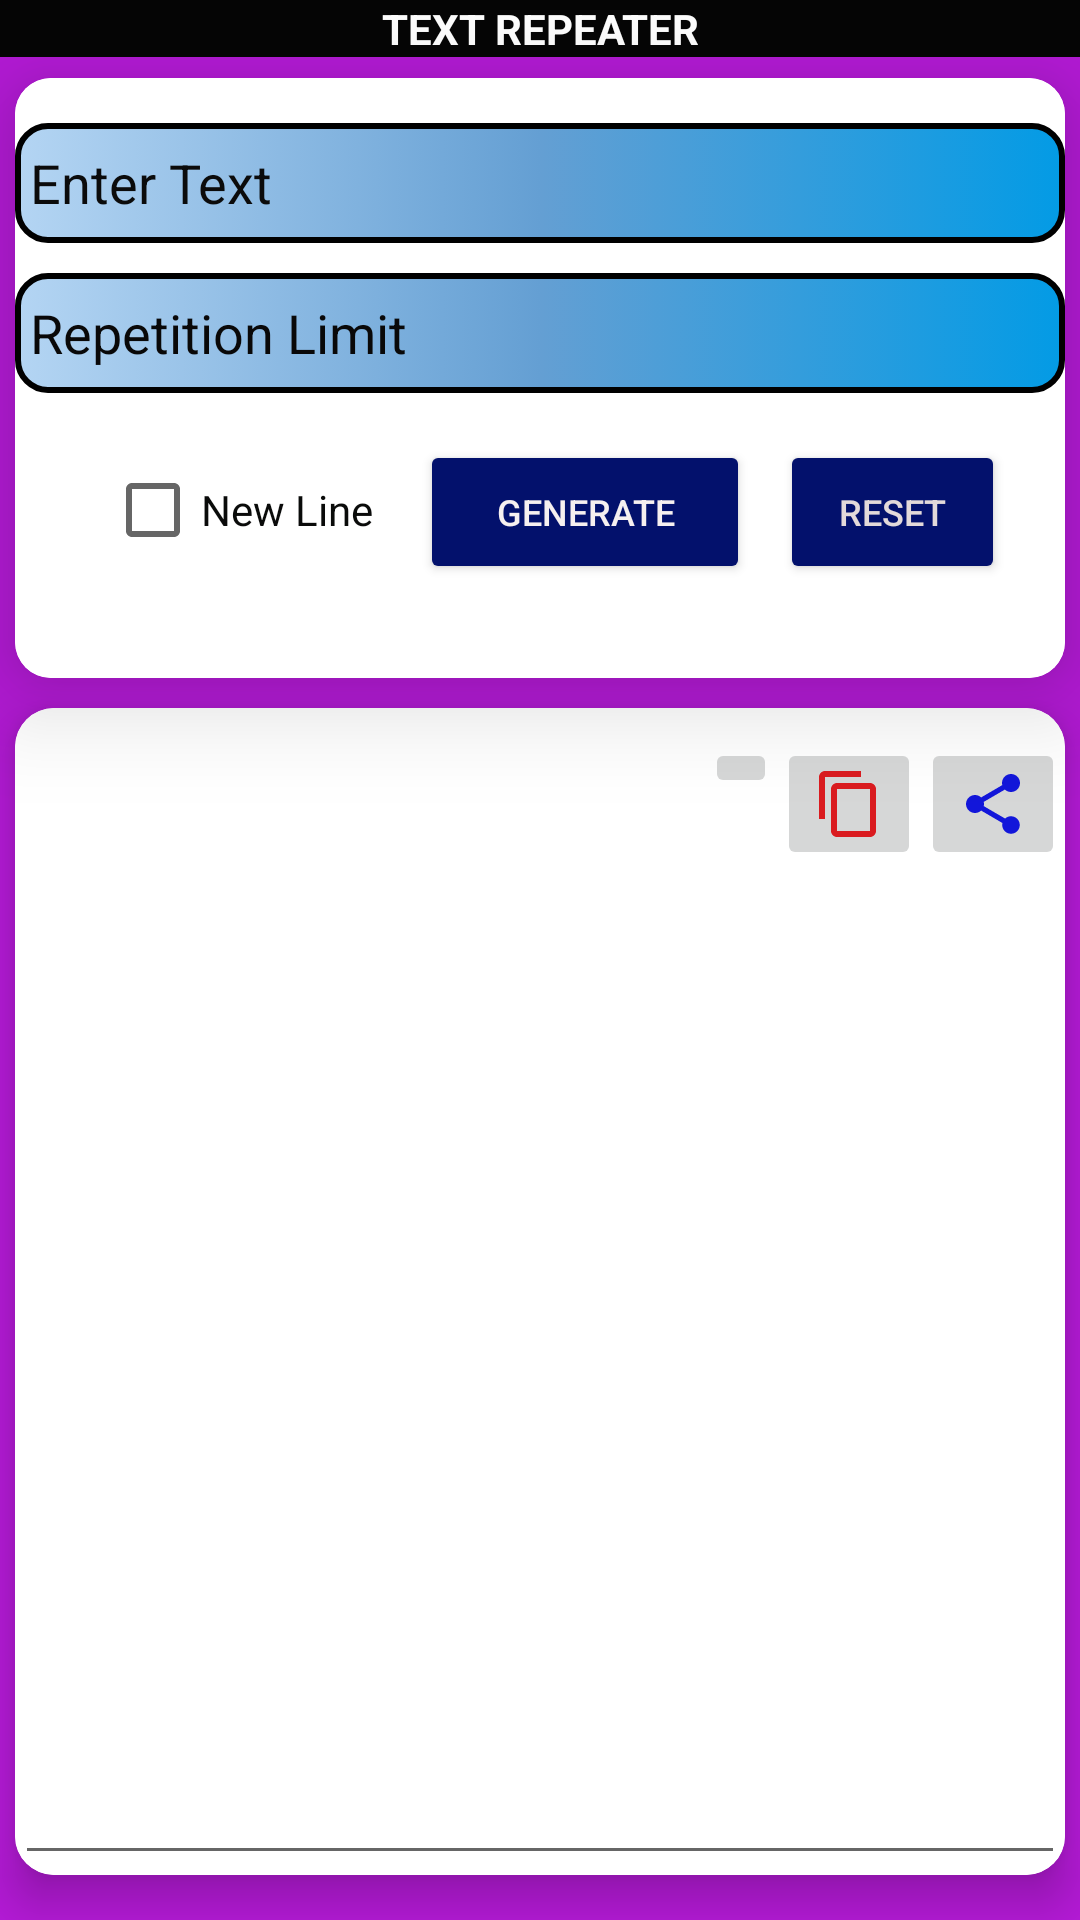

Screen size 1080px×1920px. Icon name, then its center in pixels as point (x, y):
share: point (993, 804)
